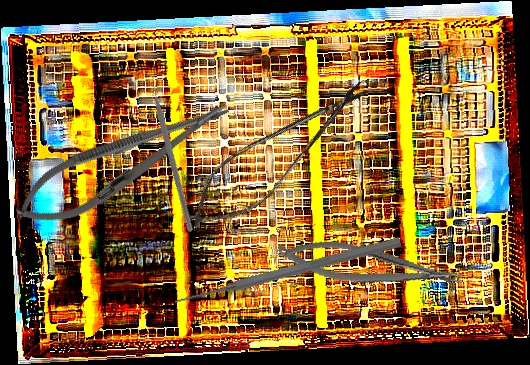Chopper: (92, 68, 258, 233)
Micro Scissor: (172, 61, 383, 247)
Needle Holder: (5, 83, 241, 241), (274, 229, 465, 304)
Pusher: (173, 234, 402, 309)
